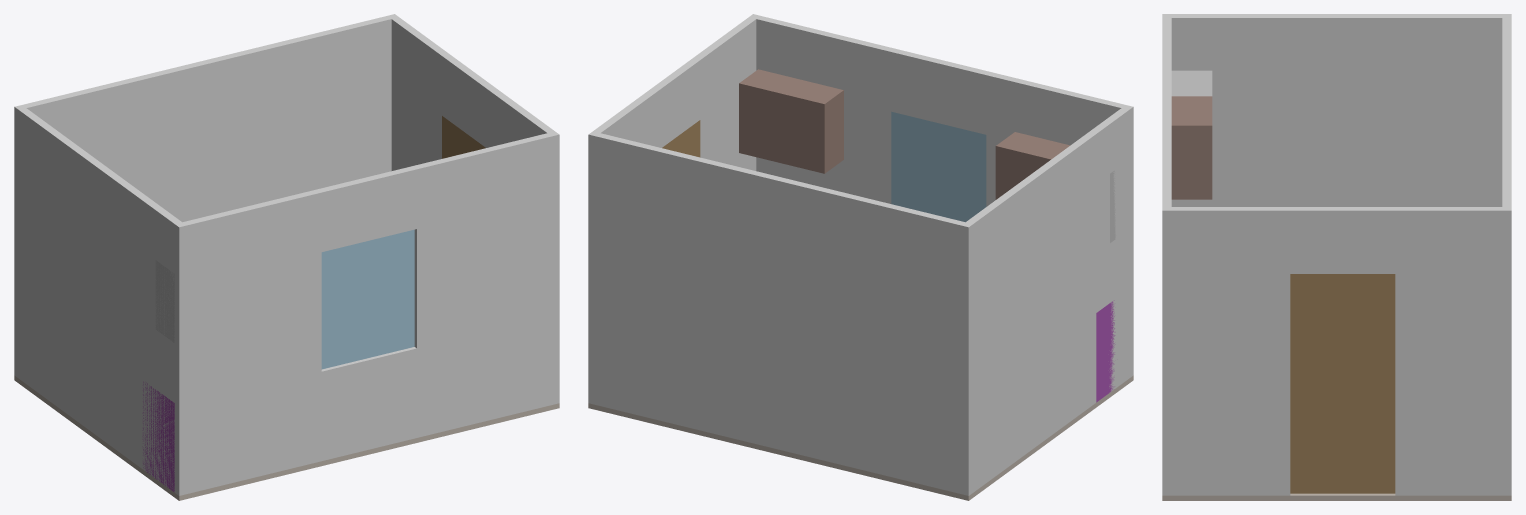
The model's file is kitchen_20251229_141014.glb.
The picture shows the model from 3 angles, left to right: view 1: azimuth 30°, elevation 25°; view 2: azimuth 150°, elevation 25°; view 3: azimuth 270°, elevation 25°; orthographic projection. The views are drawn at different scales.
Parts seen in each view (by area): view 1: world; view 2: world; view 3: world.
Part boxes in pixels (<box>): world: <box>14,14,559,500</box>; world: <box>588,14,1133,500</box>; world: <box>1162,14,1511,500</box>.
Size of the model in its own units: 400 by 275 by 300.
